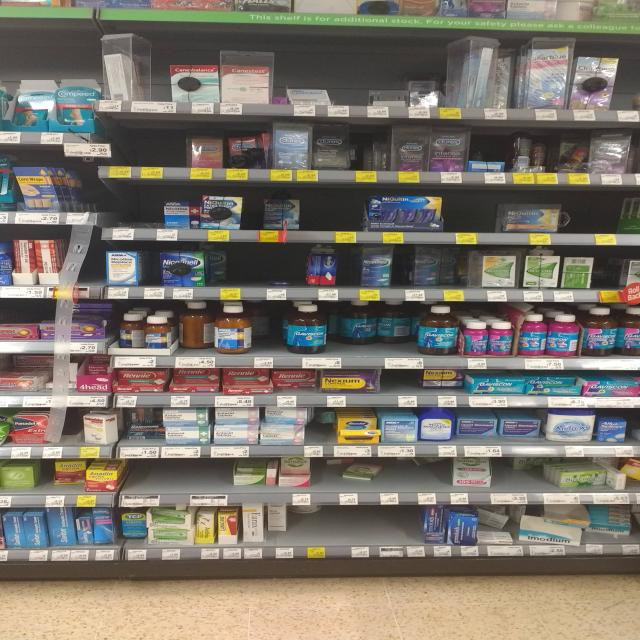void: (332, 41, 366, 118), (143, 42, 174, 114), (368, 44, 398, 118), (113, 114, 148, 177), (151, 116, 186, 178), (352, 122, 386, 182), (208, 240, 242, 299), (590, 187, 624, 245), (126, 458, 166, 507), (100, 183, 132, 242), (383, 506, 420, 557), (238, 243, 271, 300), (314, 504, 347, 560), (269, 244, 301, 299), (169, 458, 204, 507), (564, 184, 592, 245), (442, 183, 470, 243), (132, 183, 161, 240), (334, 185, 363, 242), (472, 185, 500, 244), (618, 47, 640, 122), (307, 183, 334, 243), (348, 506, 379, 557), (388, 457, 420, 505), (205, 456, 234, 508), (289, 500, 314, 558), (418, 456, 447, 504), (384, 369, 419, 406)
